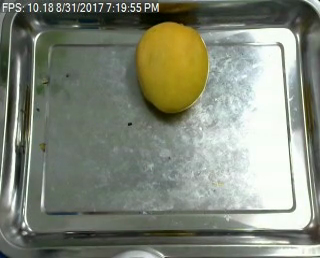Mango: (133, 20, 209, 113)
